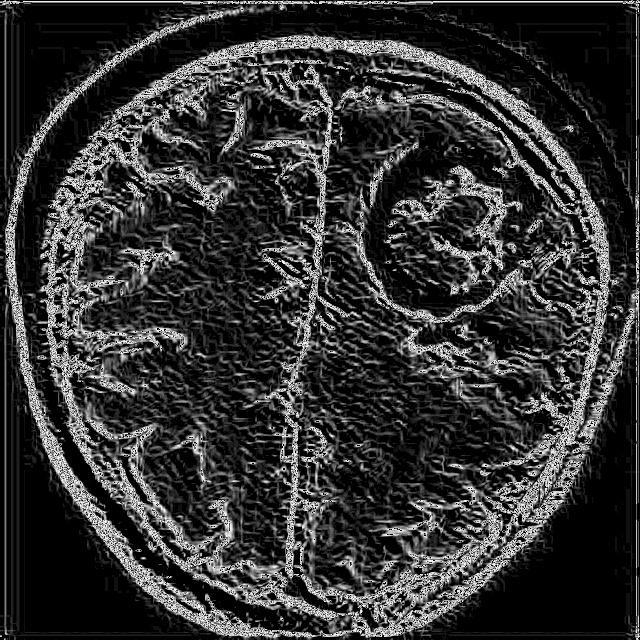Brain-Tumor: (344, 96, 576, 337)
